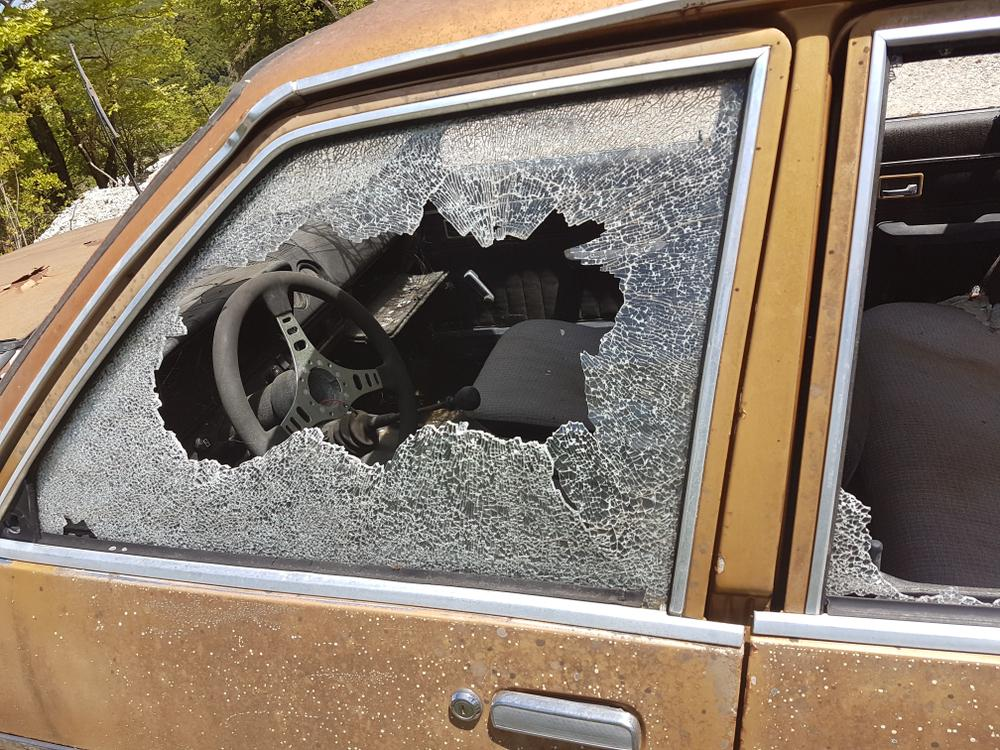glass shatter: (33, 70, 749, 600)
